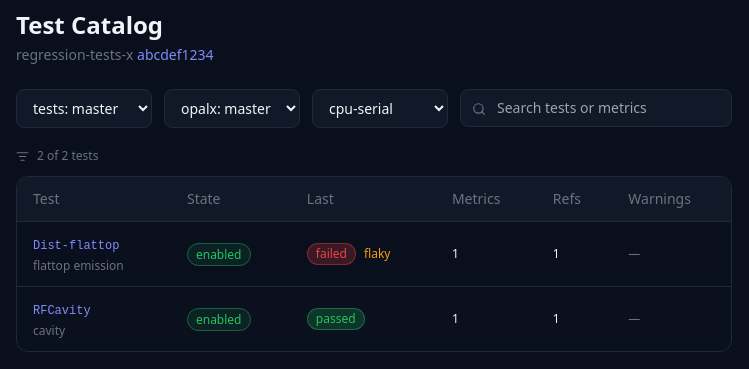
Test: CatalogPage › filters catalog rows by search text
Expected: the link "Dist-flattop" is shown, [33,239,119,253]
Expected: the link "RFCavity" is shown, [33,304,91,318]
Type "rms_s" into the field with placeholder "Search tests or metrics" at (596, 108), box [460,89,732,127]
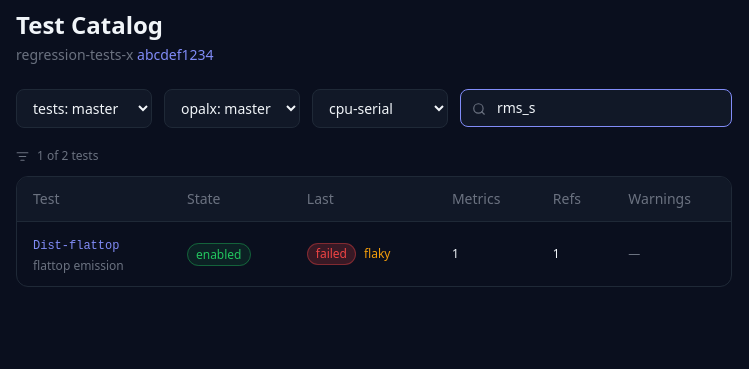
Expected: the link "Dist-flattop" is shown, [33,239,119,253]
Expected: the link "RFCavity" is gone
